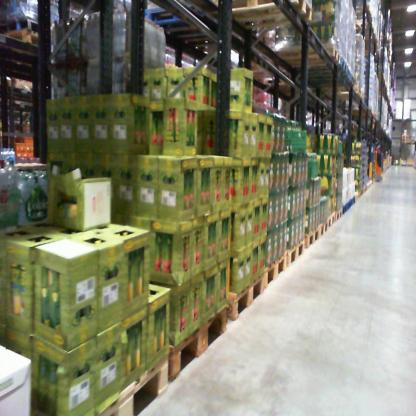forklift: (374, 120, 390, 190)
pallet: (165, 292, 236, 382), (85, 352, 174, 414), (202, 1, 314, 36), (3, 25, 72, 67), (224, 269, 268, 322), (137, 3, 216, 26), (270, 47, 341, 72), (260, 247, 288, 291), (285, 58, 348, 76), (281, 239, 306, 271), (260, 74, 302, 93), (302, 227, 319, 250), (322, 207, 337, 231), (316, 220, 328, 240), (335, 207, 344, 221)
